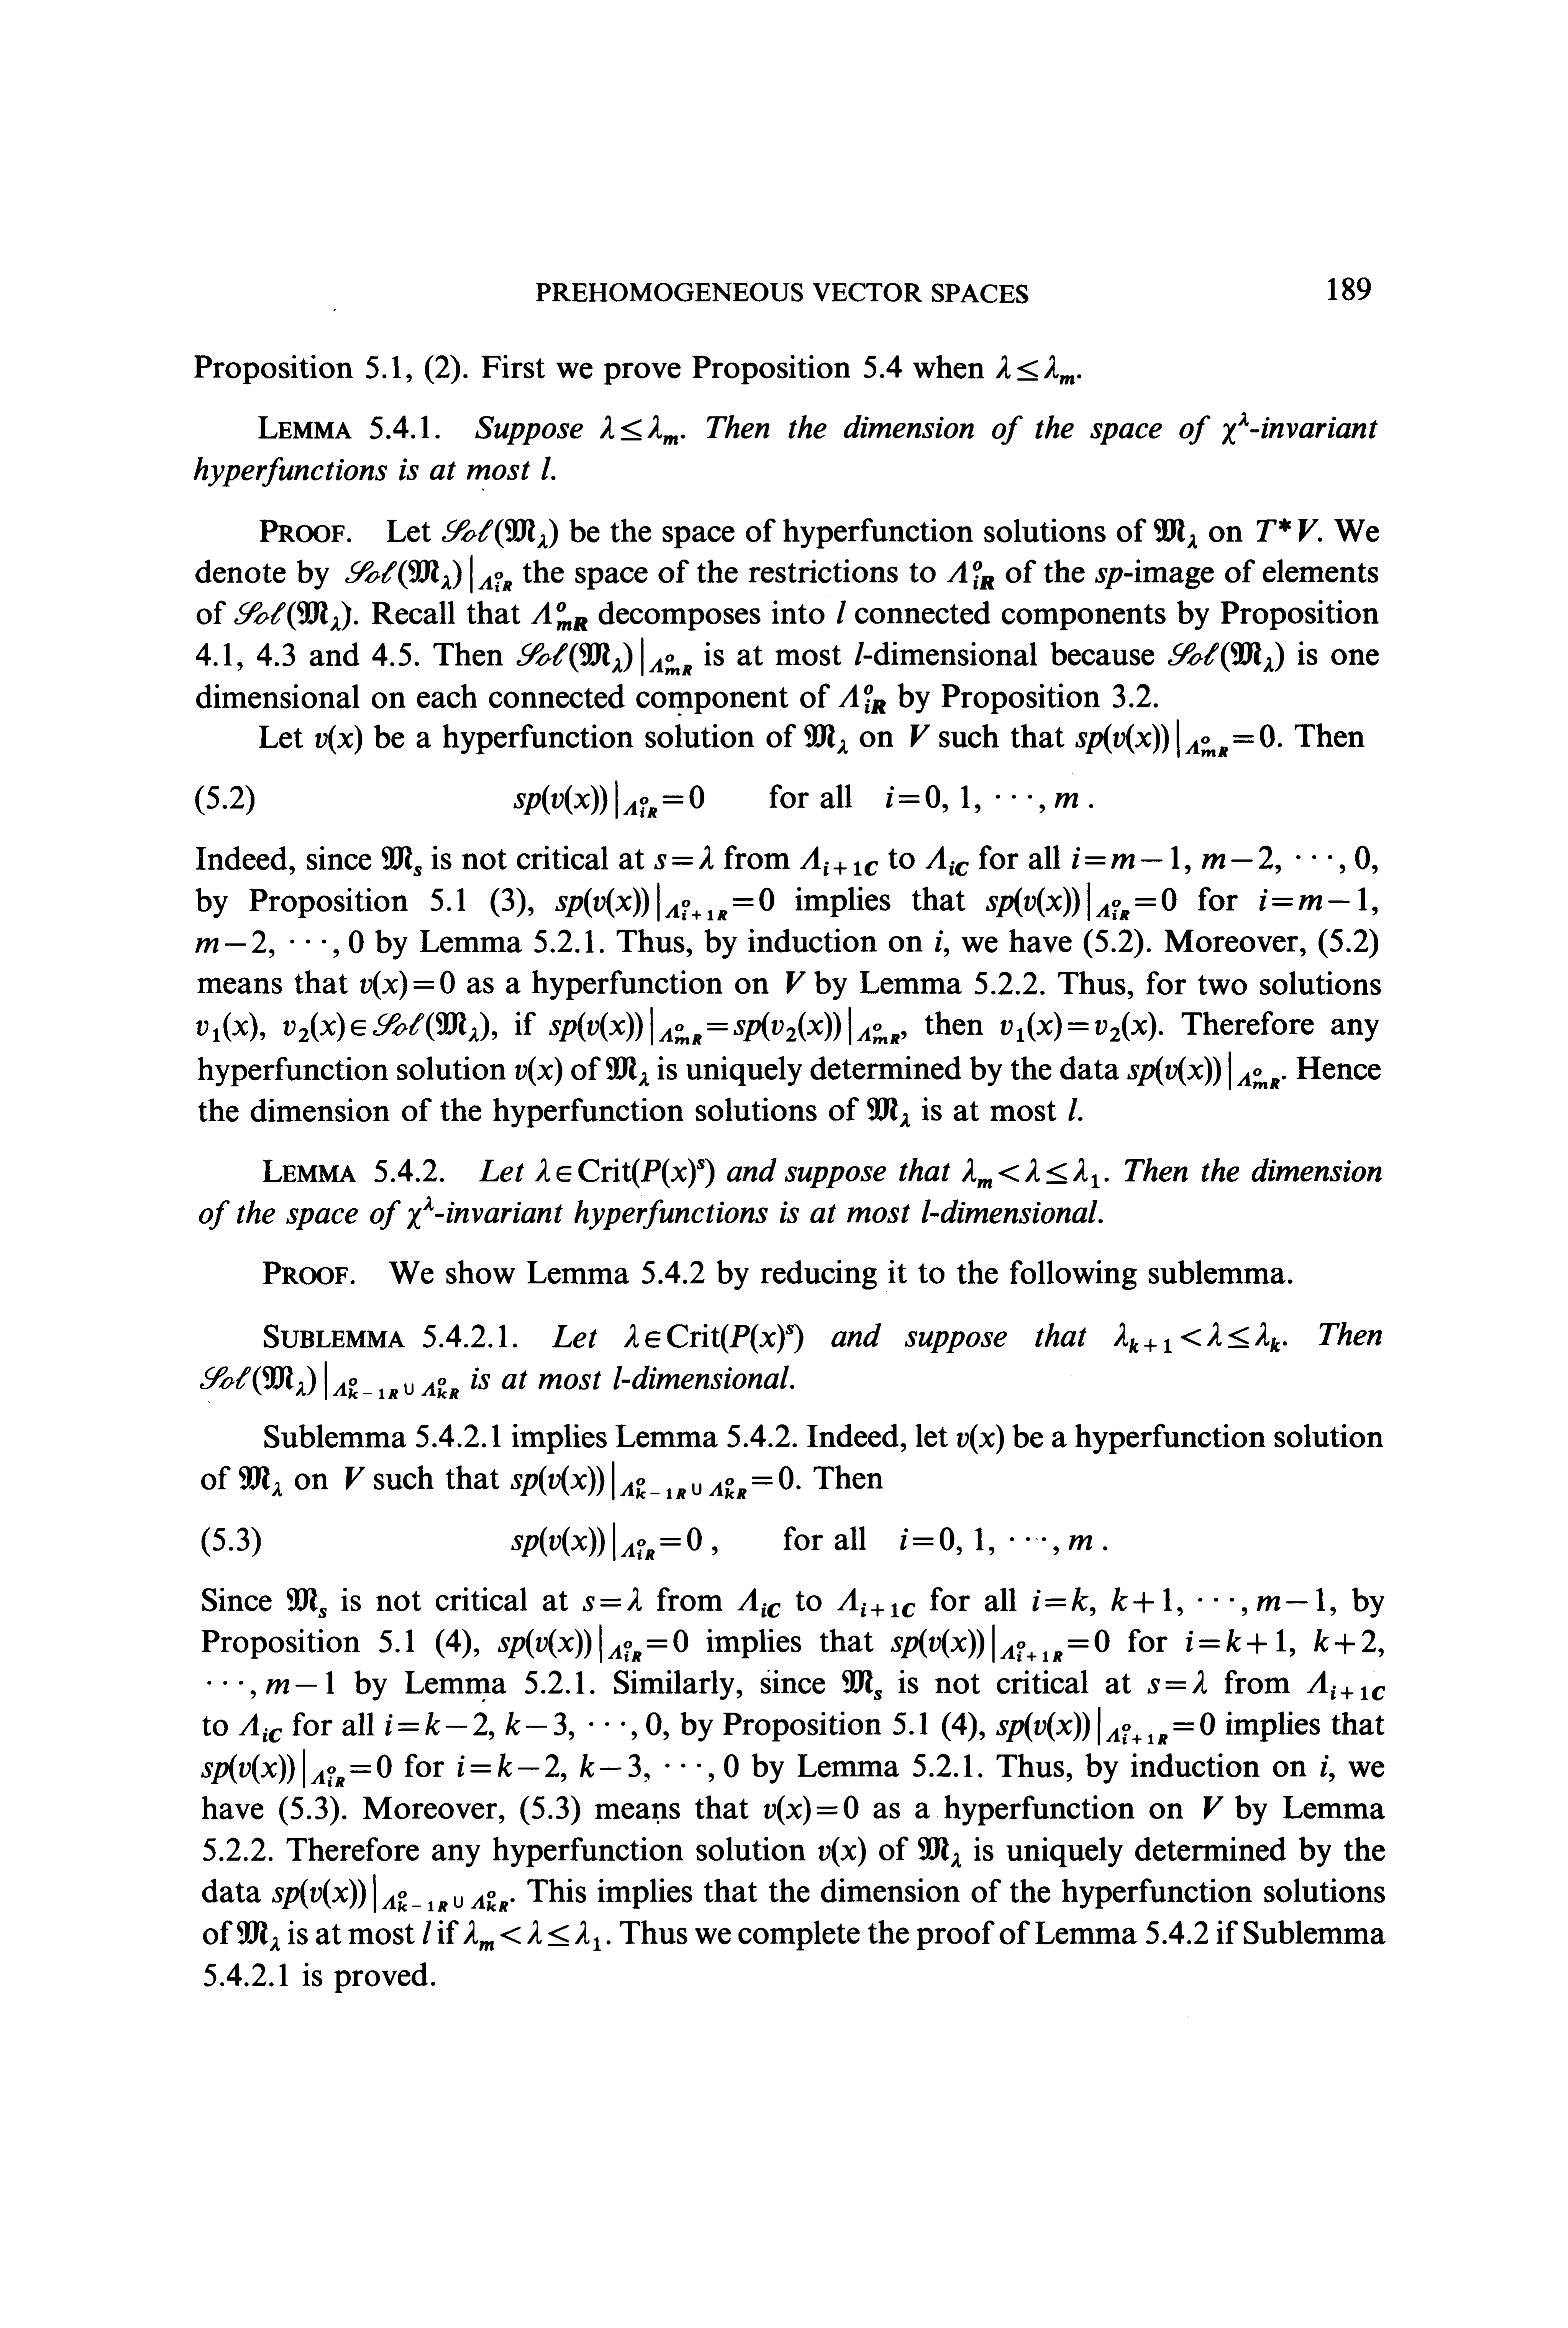maths: (549, 1006, 899, 1045), (511, 1462, 793, 1500), (199, 1362, 458, 1402), (271, 1875, 507, 1913), (196, 1012, 488, 1041), (555, 882, 773, 921), (891, 1624, 1109, 1663), (996, 1707, 1214, 1745), (1073, 845, 1370, 873), (1032, 1588, 1325, 1616), (457, 1754, 738, 1782), (385, 1712, 661, 1740), (1076, 719, 1274, 758), (513, 781, 703, 819), (985, 882, 1176, 921), (497, 1624, 688, 1663), (201, 1749, 392, 1787), (511, 1523, 702, 1560), (516, 637, 691, 676), (345, 555, 511, 593), (1127, 1052, 1279, 1090), (1186, 1628, 1382, 1656), (885, 784, 1078, 812), (623, 1323, 803, 1353), (901, 1526, 1092, 1554), (1115, 1322, 1279, 1353), (535, 1159, 714, 1187), (1001, 1012, 1157, 1041), (196, 931, 364, 957), (464, 1920, 600, 1952), (962, 1159, 1099, 1189), (441, 518, 558, 548), (1167, 642, 1284, 672), (206, 1672, 334, 1698), (234, 602, 352, 630), (1260, 887, 1377, 915), (763, 1796, 857, 1826), (360, 971, 455, 999), (996, 355, 1074, 385), (836, 1588, 915, 1617), (600, 415, 677, 445), (1307, 1670, 1384, 1700), (800, 847, 878, 875), (530, 602, 586, 630), (654, 845, 712, 870), (947, 560, 994, 590), (838, 684, 885, 714), (315, 725, 362, 754), (819, 1836, 866, 1866), (1256, 518, 1318, 541), (238, 1465, 282, 1497), (236, 1920, 280, 1952), (583, 1588, 642, 1610), (1148, 1670, 1207, 1693), (514, 1057, 562, 1085), (957, 1425, 1004, 1453), (737, 1588, 780, 1617), (1155, 518, 1197, 548), (805, 725, 847, 754), (926, 845, 968, 875), (868, 1097, 910, 1127), (919, 1838, 961, 1868), (605, 1057, 649, 1085), (381, 845, 422, 875), (842, 1670, 882, 1700), (240, 1714, 282, 1742), (287, 1588, 325, 1617), (1221, 411, 1248, 445), (408, 1196, 434, 1229), (1095, 567, 1123, 588), (910, 725, 929, 747), (786, 971, 805, 994), (345, 1467, 364, 1490), (1204, 1796, 1223, 1819), (1067, 1097, 1078, 1120), (541, 457, 549, 480), (836, 600, 845, 623), (856, 642, 864, 665), (922, 1199, 931, 1222), (614, 1365, 621, 1390), (423, 1920, 430, 1945), (1321, 1756, 1328, 1777), (934, 936, 941, 952)
